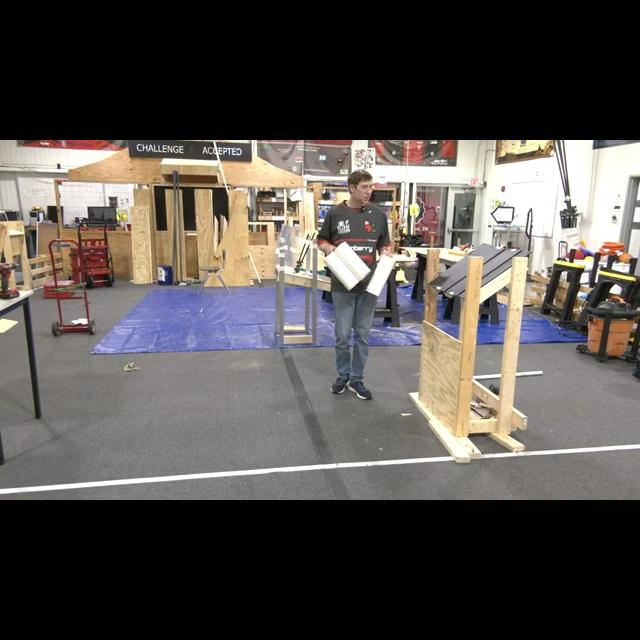CORAL: (323, 250, 359, 290), (334, 242, 370, 280), (366, 254, 396, 296)
